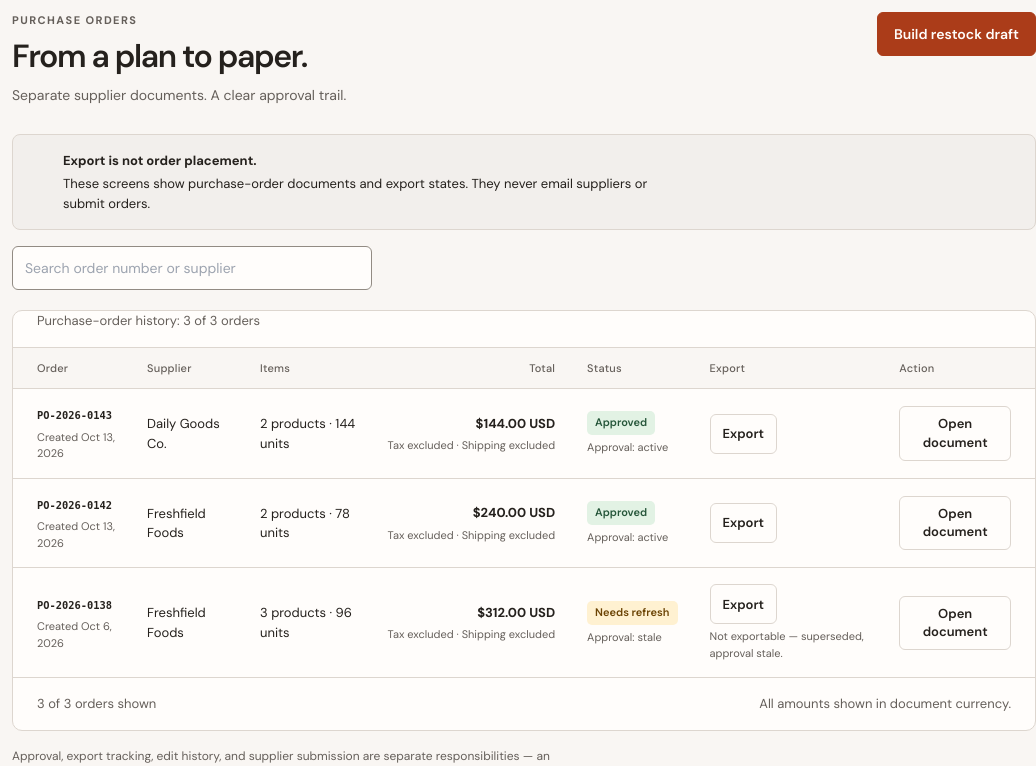
Test: order export (attempt capture, honest states) › produces a document on success and never claims supplier contact
The image size is (1036, 766).
Expected: the table "Purchase-order history" is shown, top-left (13, 311), bottom-right (1035, 677)
Click the button "Export" in the row of "PO-2026-0142": [743, 523] box top-left (710, 503), bottom-right (777, 543)
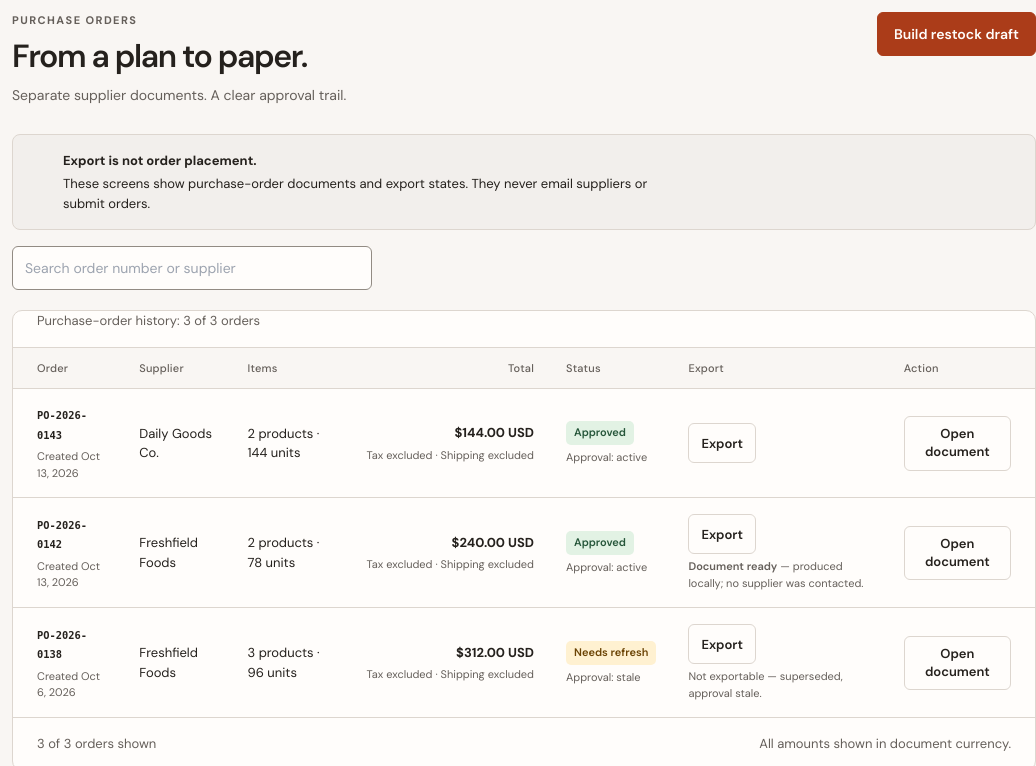
Expected: the link "Document ready" is shown, top-left (688, 559), bottom-right (777, 573)
Expected: the text "no supplier was contacted" is shown, top-left (688, 559), bottom-right (864, 590)
